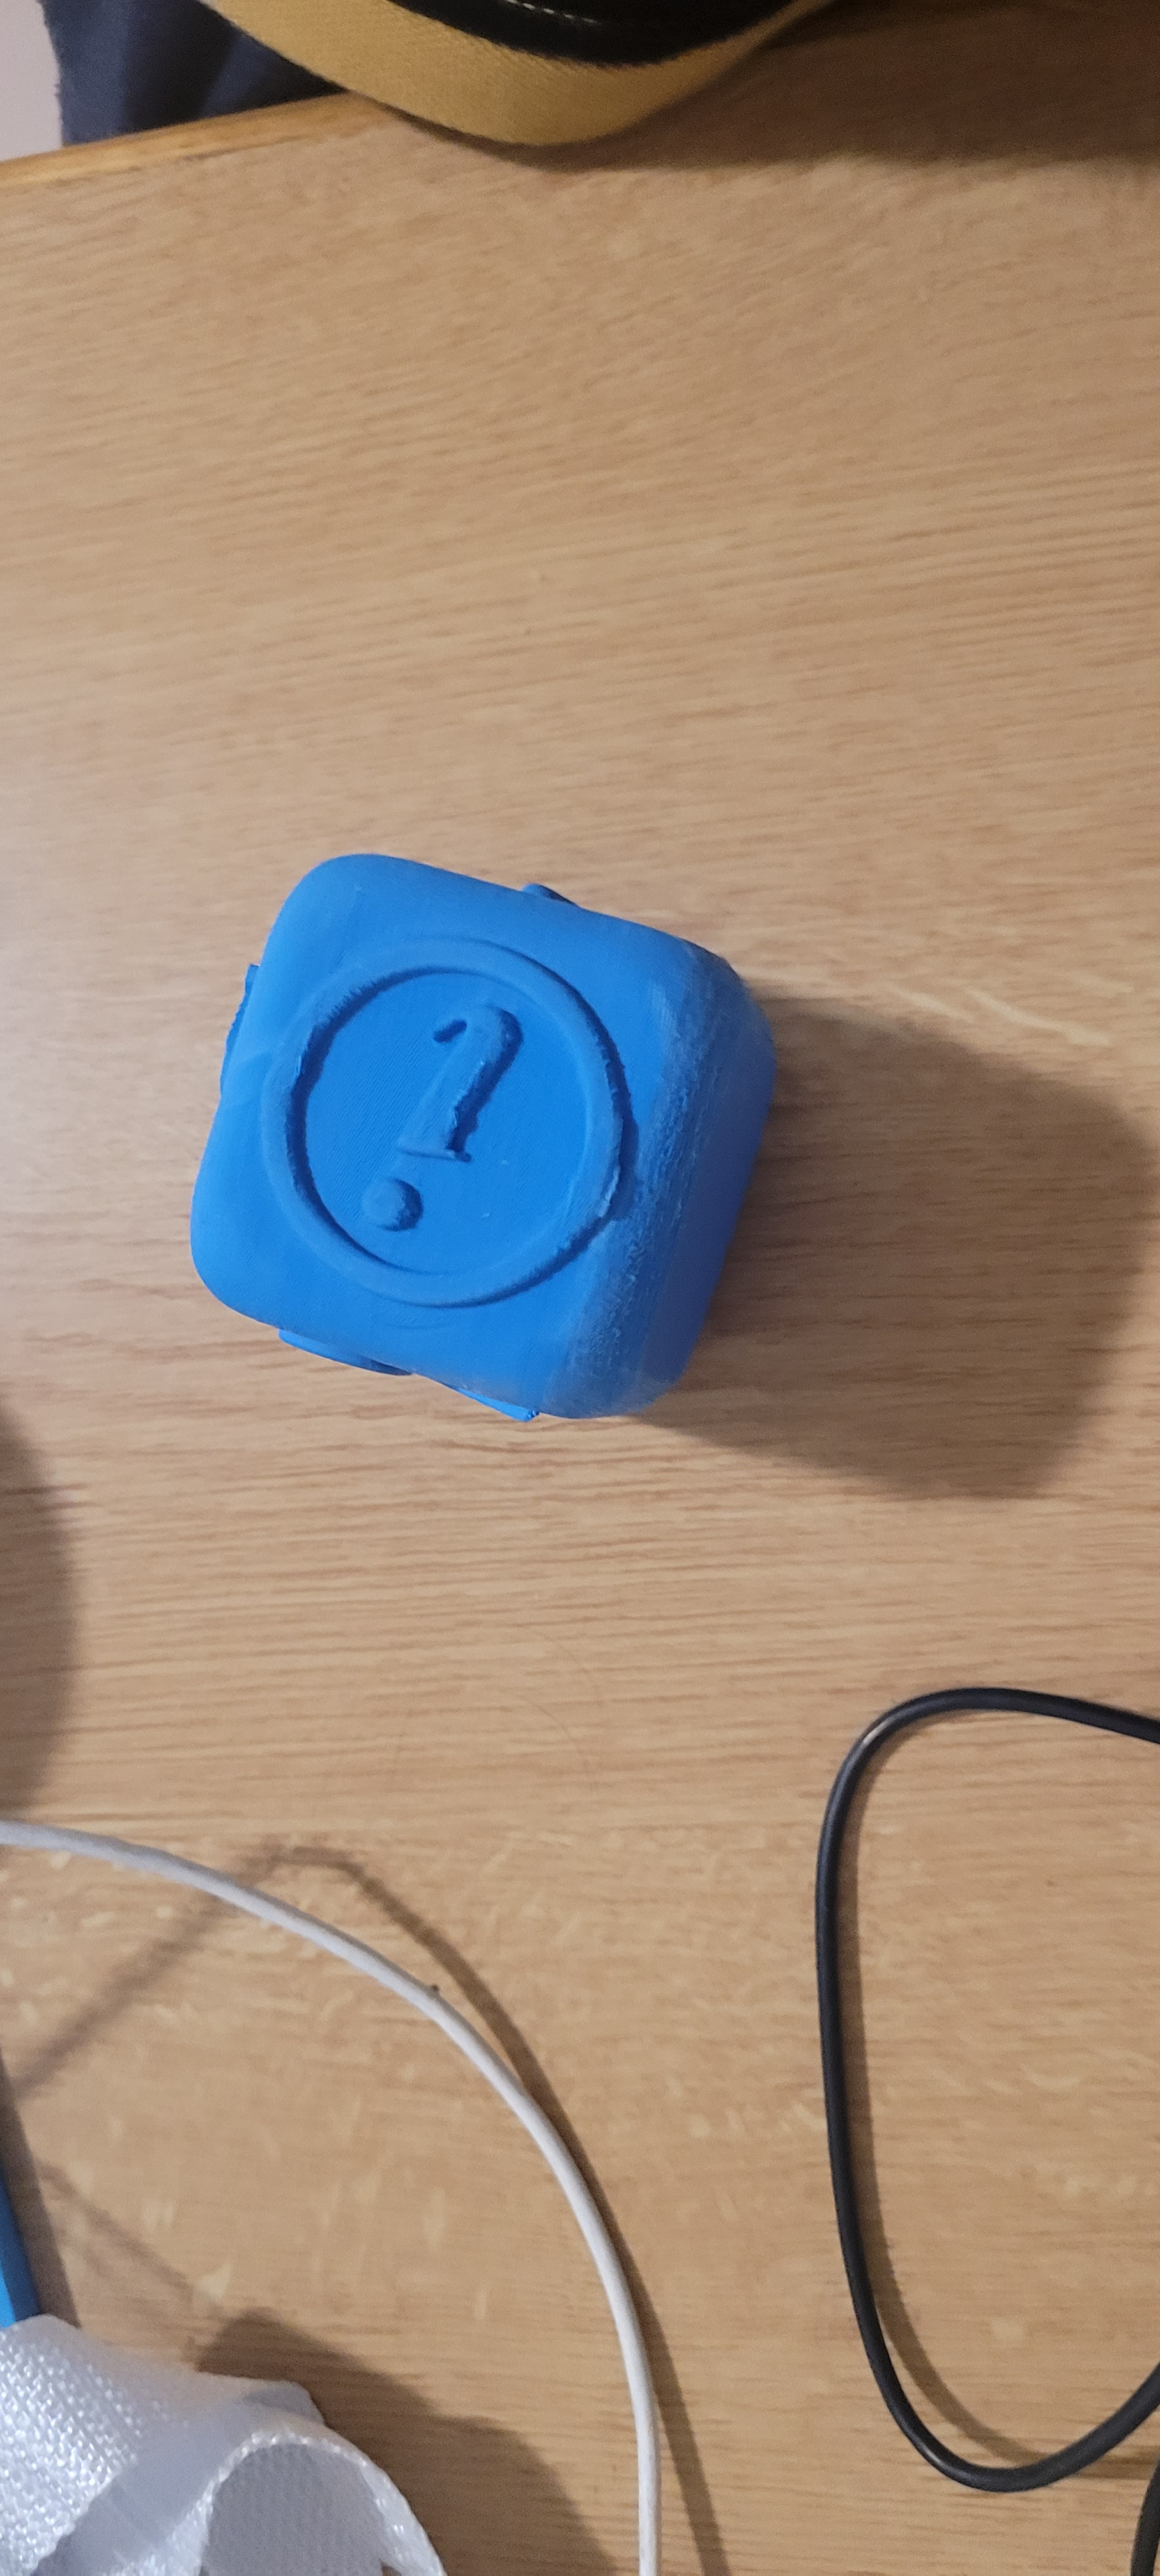Info: (200, 946, 698, 1304)
